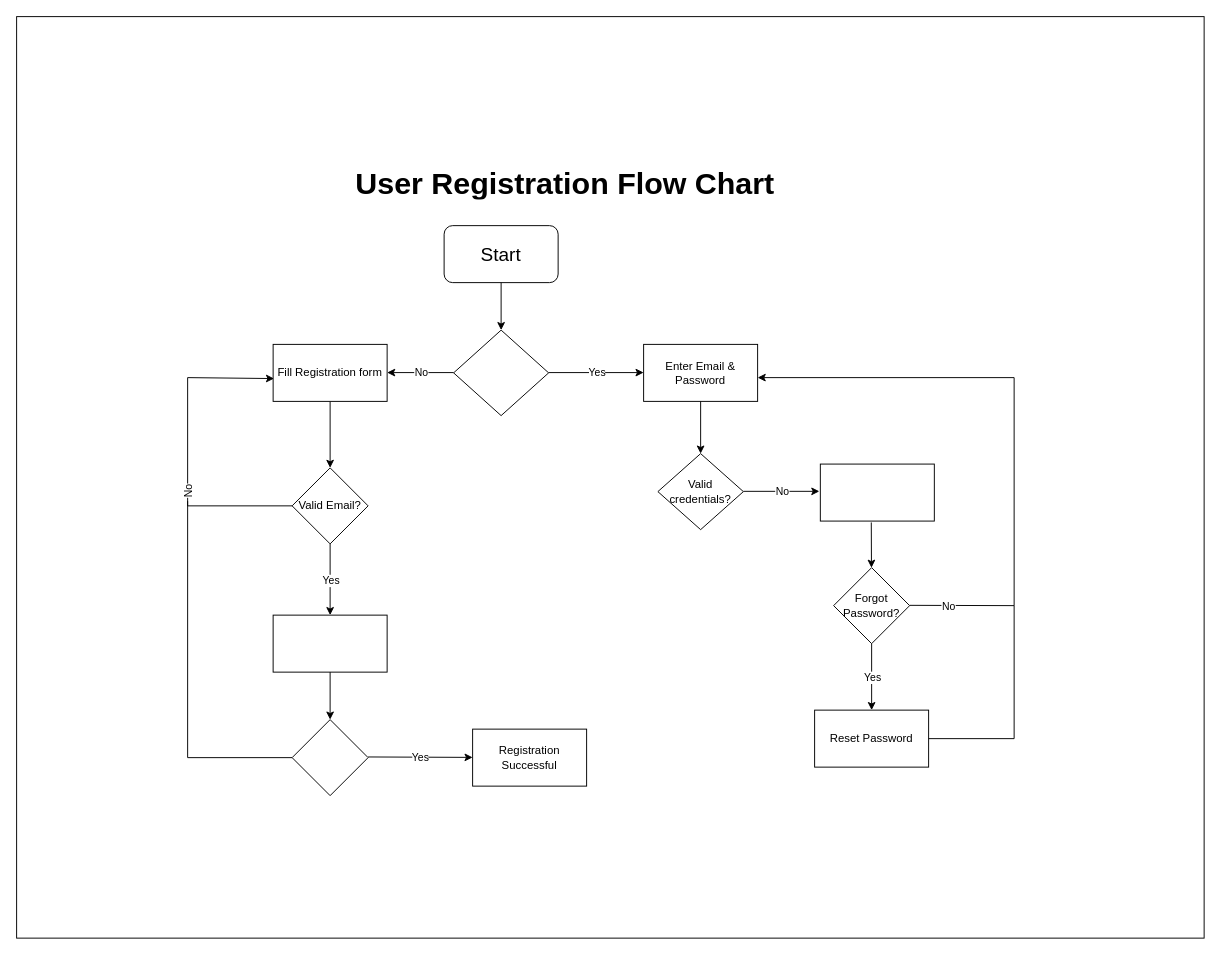
This 1221x955 diagram has some shape labels left out. Here are the shapes that lost their labels. From the top down, the centre of each, then its label:
At point (501, 372): "Already a member?".
At point (876, 492): "Login Failed".
At point (329, 643): "Send Confirmation email".
At point (329, 757): "Email confirmed?".
